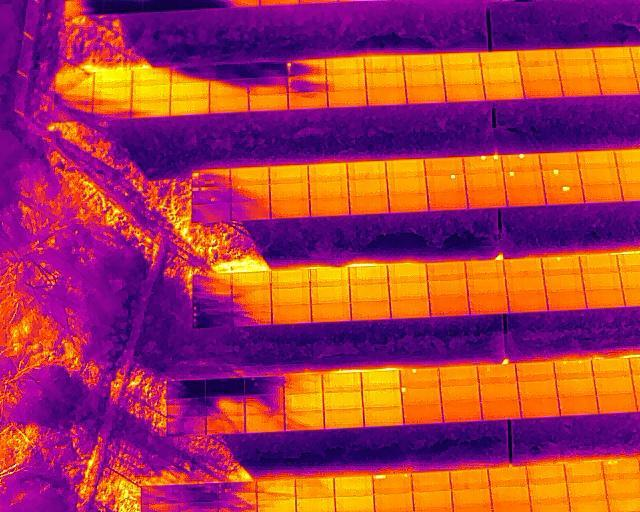Cell: (544, 185, 583, 204), (478, 364, 517, 383), (542, 255, 580, 274), (231, 185, 270, 203), (426, 174, 465, 192), (400, 369, 438, 387), (400, 387, 440, 404), (541, 169, 581, 186), (504, 172, 544, 187)
Cell-Multi: (602, 458, 639, 480), (553, 360, 593, 379), (373, 474, 410, 494), (501, 154, 541, 172), (463, 156, 503, 173), (193, 169, 230, 186), (193, 187, 231, 202)
No-Anomaly: (452, 487, 490, 510), (530, 483, 568, 506), (334, 475, 373, 497), (489, 466, 528, 488), (413, 490, 451, 512), (505, 186, 546, 206), (390, 298, 429, 319), (451, 468, 490, 489), (324, 408, 364, 428), (403, 405, 443, 425), (568, 481, 606, 502), (581, 183, 623, 202), (439, 367, 477, 388), (271, 305, 310, 325), (311, 303, 350, 323), (351, 301, 390, 321), (349, 265, 388, 285), (412, 471, 451, 491), (364, 407, 403, 427), (520, 397, 559, 417), (490, 487, 529, 507), (528, 464, 567, 484), (563, 462, 604, 481), (586, 289, 624, 309), (427, 260, 465, 280), (577, 149, 617, 168), (429, 298, 468, 317), (481, 401, 520, 420), (324, 373, 363, 392), (522, 80, 561, 99), (464, 173, 505, 191), (508, 293, 546, 312), (311, 268, 349, 287), (296, 477, 334, 496), (375, 493, 413, 512), (443, 403, 481, 422), (598, 394, 636, 413), (480, 382, 518, 401), (285, 374, 323, 393), (270, 164, 308, 183), (271, 287, 311, 305), (389, 282, 429, 300), (271, 269, 311, 287), (270, 199, 310, 217), (323, 391, 363, 409), (592, 359, 632, 377), (579, 167, 619, 185), (386, 160, 426, 178), (598, 78, 638, 96), (606, 480, 640, 501), (468, 295, 507, 313), (547, 292, 586, 310), (429, 280, 468, 298), (506, 276, 545, 294), (348, 177, 387, 195), (558, 397, 597, 415), (440, 386, 479, 404), (516, 363, 555, 381), (171, 98, 210, 116), (328, 90, 367, 108), (93, 85, 132, 103), (445, 84, 484, 102), (596, 61, 635, 79), (132, 66, 171, 84), (518, 381, 559, 398), (555, 379, 596, 396), (467, 278, 505, 296), (504, 258, 542, 276), (579, 255, 617, 273), (310, 180, 348, 198), (133, 83, 171, 101), (365, 55, 403, 73), (310, 198, 350, 215), (388, 194, 428, 211), (466, 190, 506, 207), (387, 177, 427, 194), (594, 377, 634, 394), (425, 157, 465, 174), (545, 275, 582, 293), (561, 79, 598, 97), (311, 286, 350, 303), (582, 273, 621, 290), (388, 265, 427, 282), (349, 195, 388, 212), (427, 191, 466, 208), (270, 183, 309, 200), (231, 167, 270, 184), (249, 94, 288, 111), (288, 93, 327, 110), (405, 87, 444, 104), (170, 82, 209, 99), (327, 73, 366, 90), (442, 53, 481, 70), (232, 271, 270, 288), (465, 260, 503, 277), (285, 394, 323, 411), (363, 390, 401, 407), (361, 372, 399, 389), (309, 164, 347, 181), (347, 161, 385, 178), (367, 88, 405, 105), (485, 83, 523, 100), (482, 66, 520, 83), (518, 50, 558, 66), (350, 285, 389, 301), (540, 153, 579, 169), (210, 97, 249, 113), (366, 72, 405, 88), (404, 70, 443, 86), (326, 57, 365, 73), (403, 54, 442, 70), (296, 496, 335, 512), (93, 69, 131, 85), (521, 65, 559, 81), (559, 63, 596, 79), (481, 51, 518, 67), (558, 48, 595, 64), (337, 496, 374, 512), (444, 69, 483, 84), (594, 47, 632, 62), (257, 499, 295, 512)
Shadowing: (193, 308, 232, 328), (206, 413, 245, 433), (179, 483, 219, 502), (233, 306, 271, 326), (193, 201, 231, 221), (166, 397, 206, 416), (141, 484, 180, 503), (257, 480, 296, 499), (246, 395, 285, 414), (245, 376, 284, 395), (54, 84, 93, 103), (219, 480, 256, 500), (231, 202, 271, 220), (193, 290, 232, 308), (246, 413, 285, 431), (285, 411, 324, 429), (206, 396, 245, 414), (206, 378, 245, 396), (232, 288, 270, 306), (193, 273, 232, 290), (166, 380, 205, 397), (288, 75, 327, 92), (167, 416, 206, 433), (93, 103, 131, 120), (132, 100, 170, 117), (249, 63, 287, 80), (288, 59, 326, 76), (209, 66, 249, 82), (210, 81, 249, 97), (54, 70, 94, 85), (170, 66, 209, 81), (249, 80, 287, 95)
